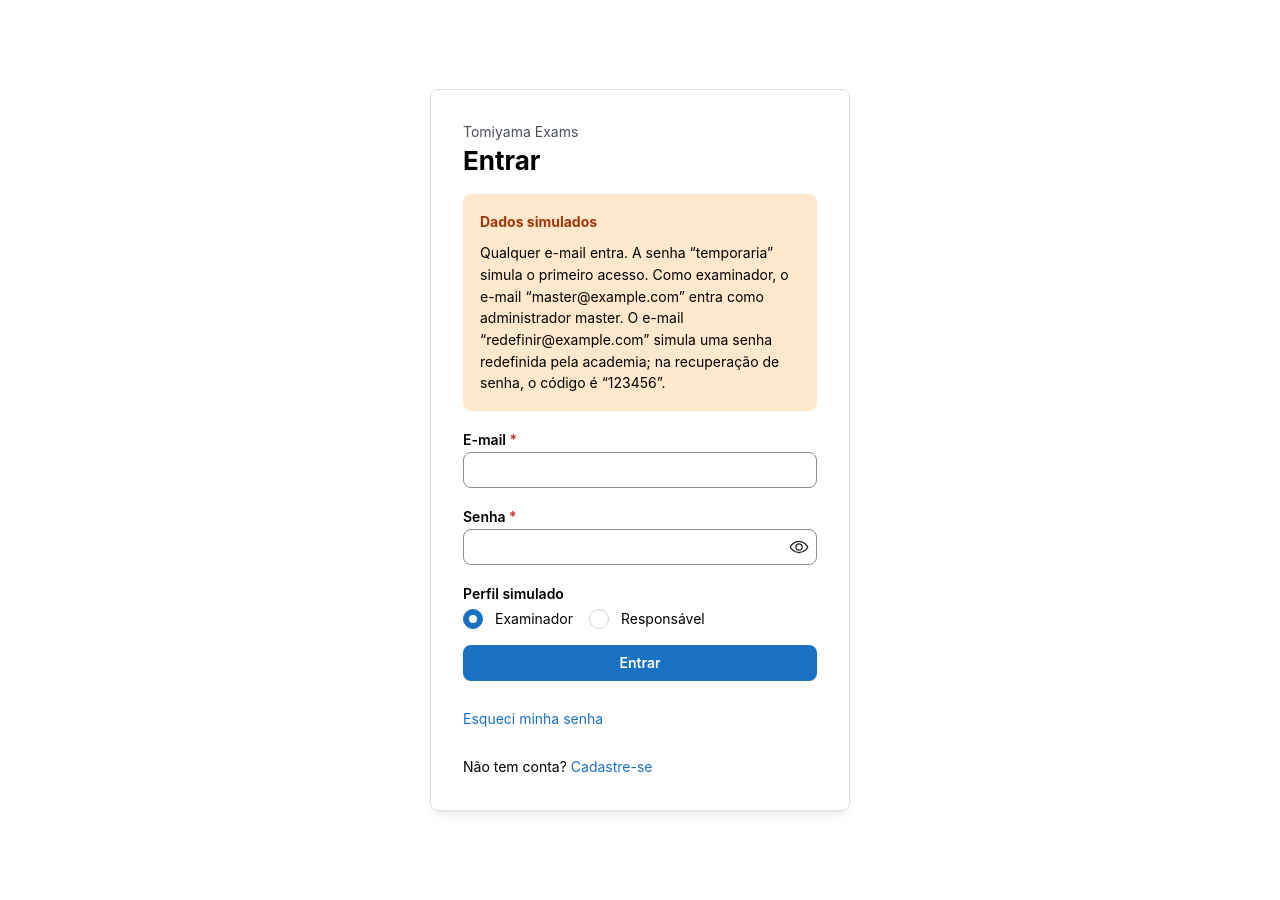
Scenario: login (§ 6.1) › signs in any e-mail in simulated mode and goes back to the page asked for
Step 1. Type "prof@example.com" into the field labelled "E-mail *" → (640, 470), box [463, 452, 817, 488]
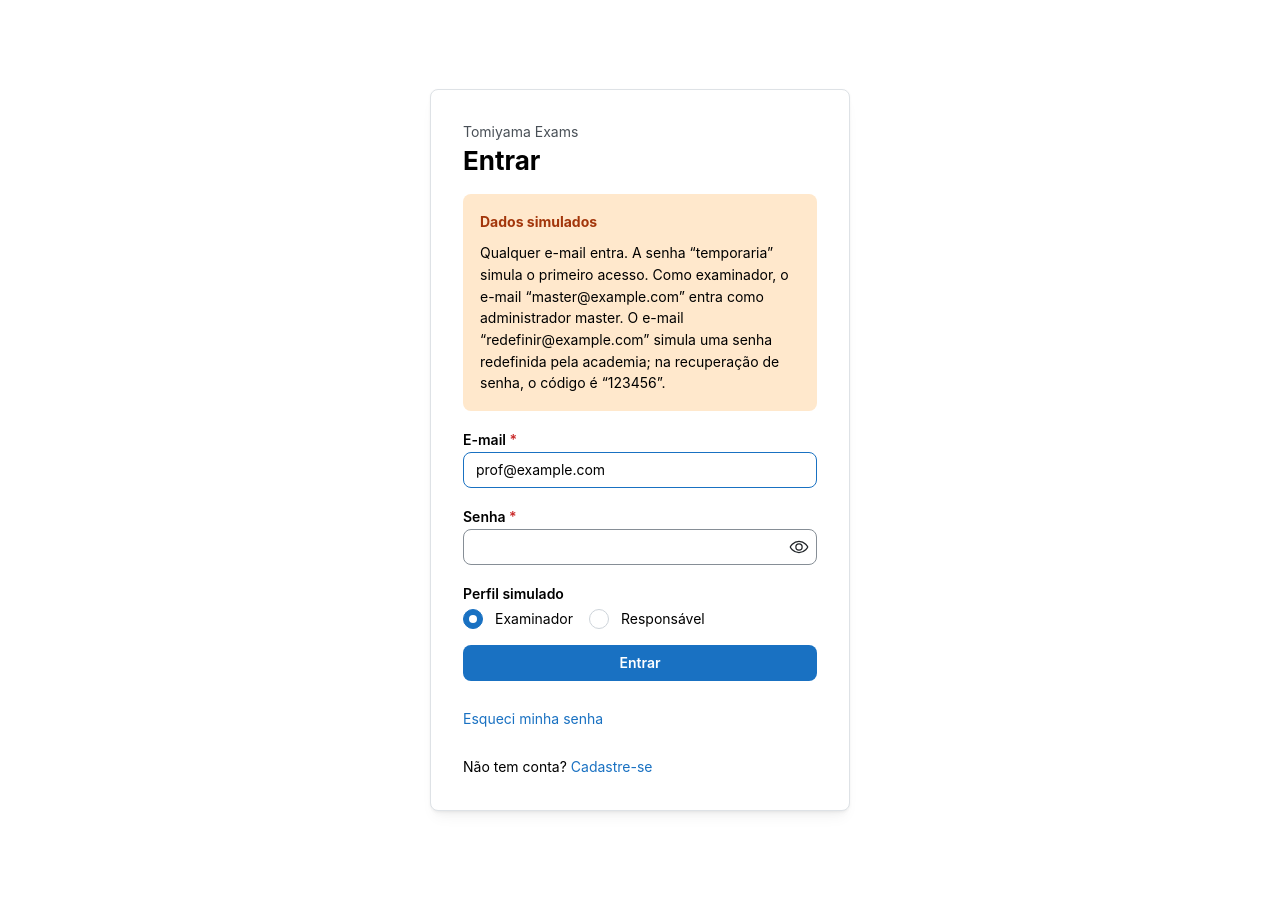
Step 2. Type "qualquer" into the password field labelled "Senha *" → (640, 547), box [464, 530, 816, 564]
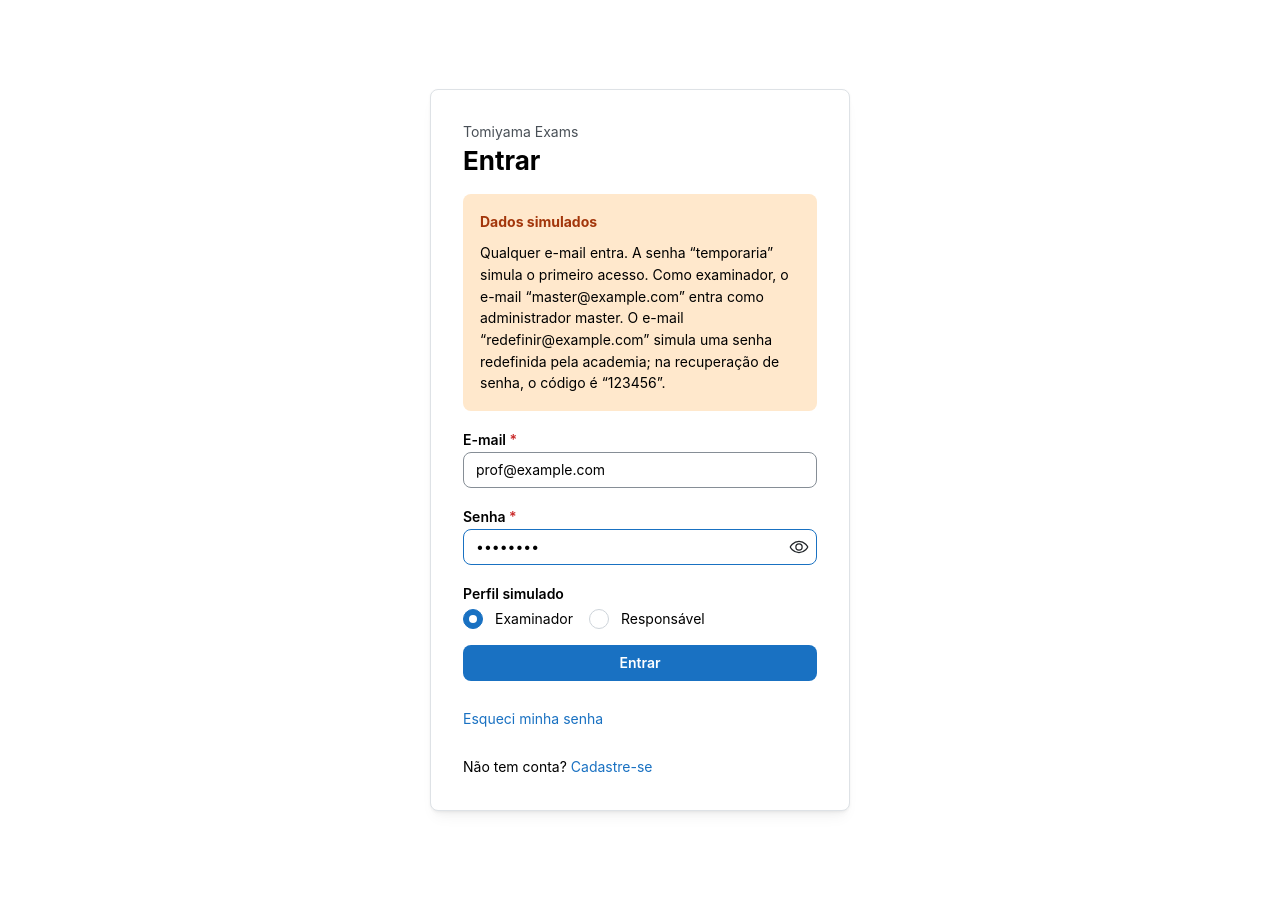
Step 3. Click the button "Entrar" → (640, 664), box [463, 646, 817, 682]
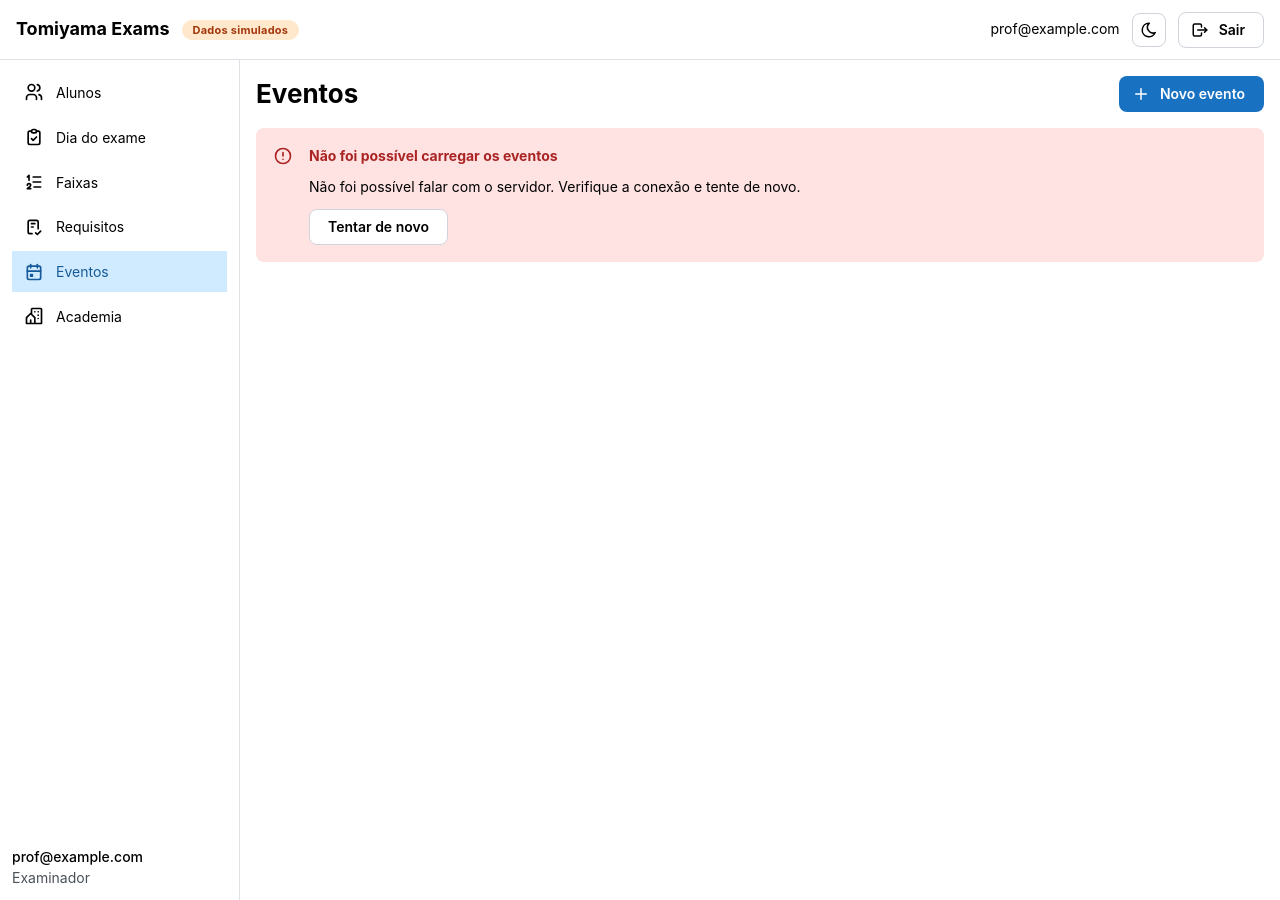
Now the heading "Eventos" is shown, box [256, 76, 358, 112]
Now the text "prof@example.com" in the row of "Dados simulados" is shown, box [990, 20, 1120, 37]
